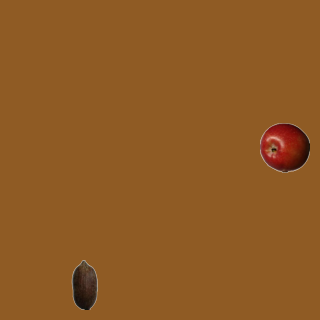Apple Braeburn: (259, 122, 309, 172)
Nut Pecan: (59, 259, 109, 309)
